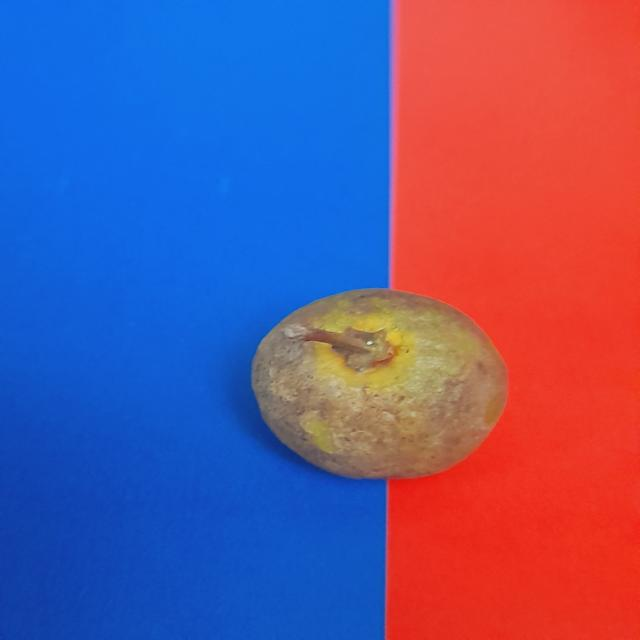thrips: (239, 280, 514, 490)
